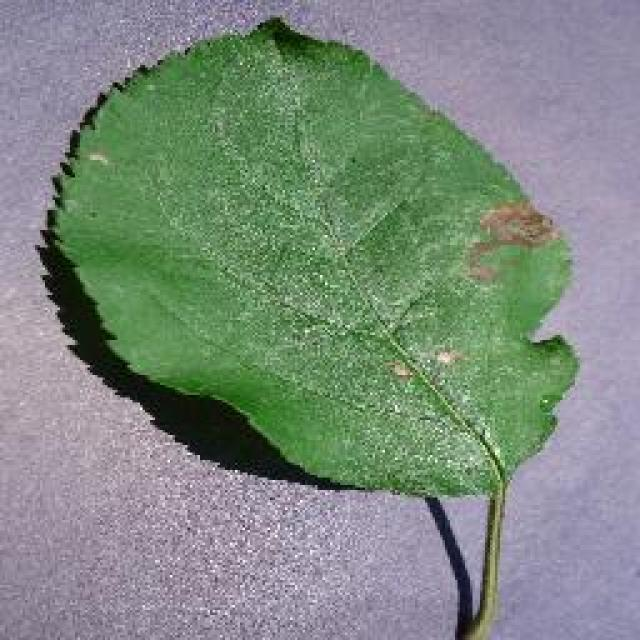Black_rot: (40, 12, 580, 638)
